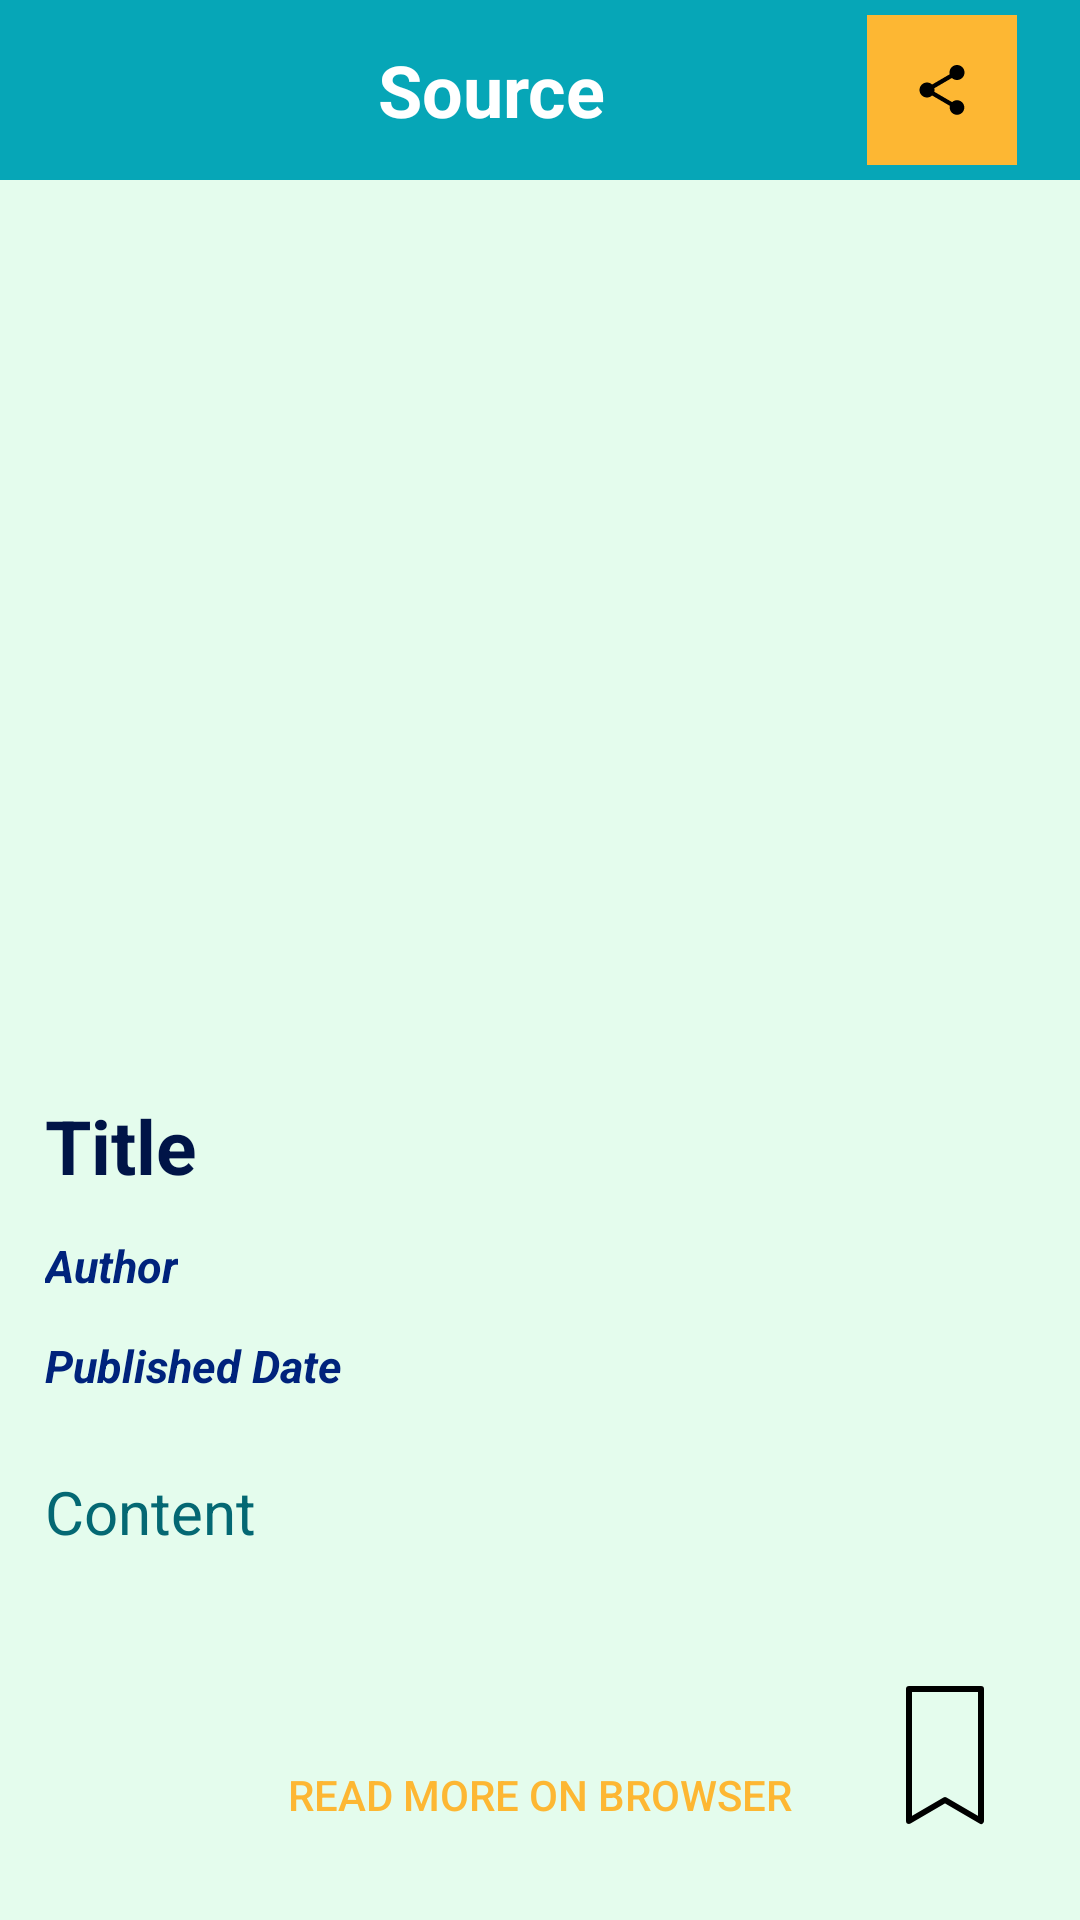

Screen size 1080px×1920px. Icon name, then its box in pixels as (x1=x1, y1=y1, x2=x2, y2=y2):
Bookmarked News: (x1=906, y1=1686, x2=984, y2=1825)
Share Button: (x1=867, y1=15, x2=1017, y2=165)
